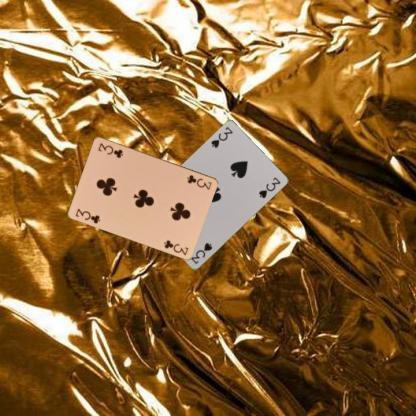3c: (184, 172, 214, 191), (73, 206, 102, 224)
3s: (188, 240, 214, 265), (209, 125, 234, 149)
